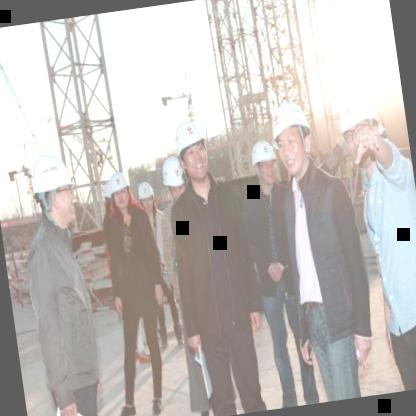helmet: (28, 149, 80, 231), (268, 95, 316, 180), (167, 112, 214, 191), (337, 90, 380, 166), (247, 136, 280, 190), (102, 164, 134, 218), (156, 152, 186, 206), (134, 174, 159, 215)
